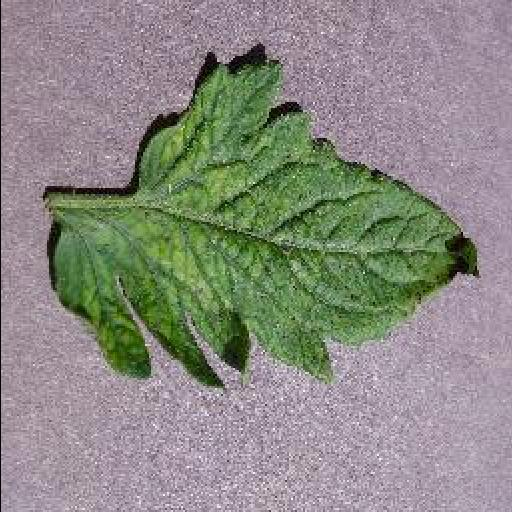disease_tomato: (49, 60, 483, 392)
